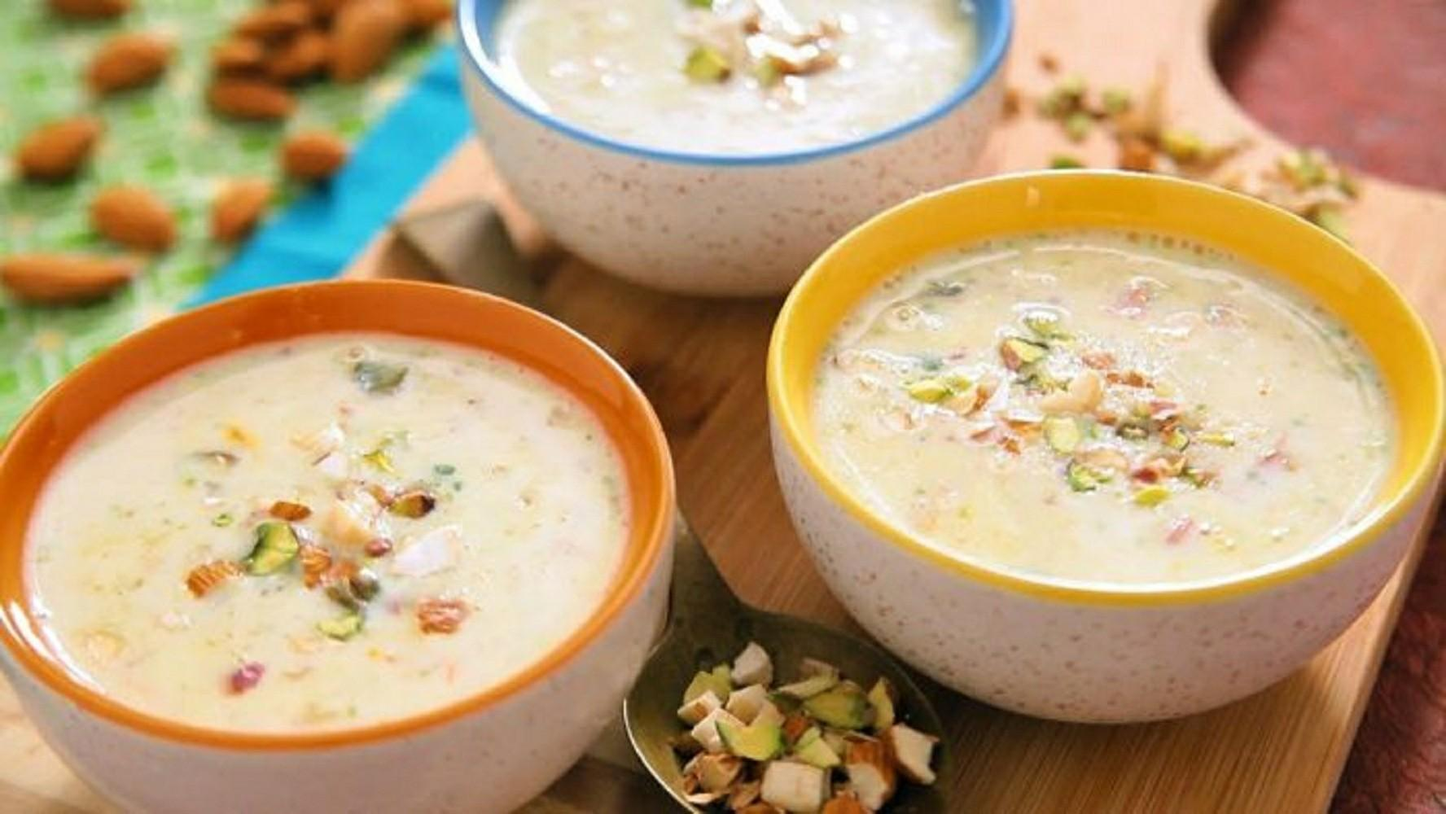Kheer: (27, 332, 626, 720), (818, 236, 1399, 583)
